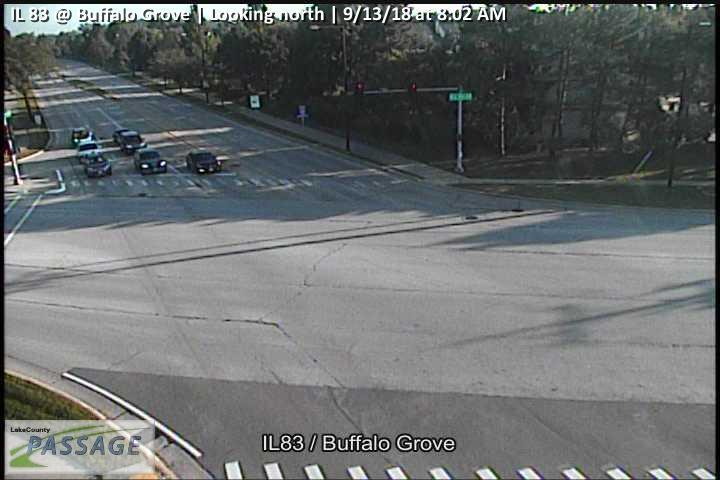SUV: (120, 130, 148, 156)
Sedan: (134, 148, 168, 175), (187, 150, 222, 175), (82, 153, 113, 178), (76, 141, 102, 160)
